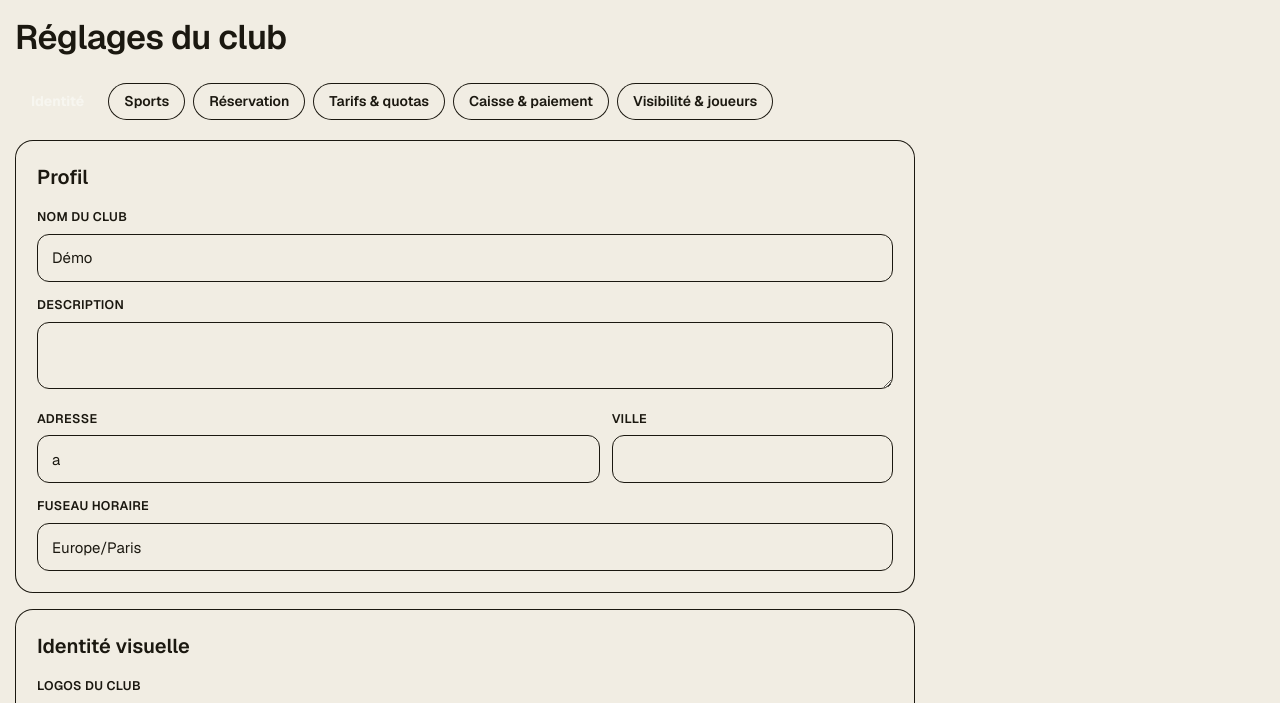
it: AdminSettingsPage (onglets + SaveBar) › switches tabs and reflects the active tab in the URL
The width and height of the screenshot is (1280, 703).
Expected: the heading "Profil" is shown, 37,164 -> 88,190
Click the button "Réservation" at [249, 102], box 193,83 -> 305,120
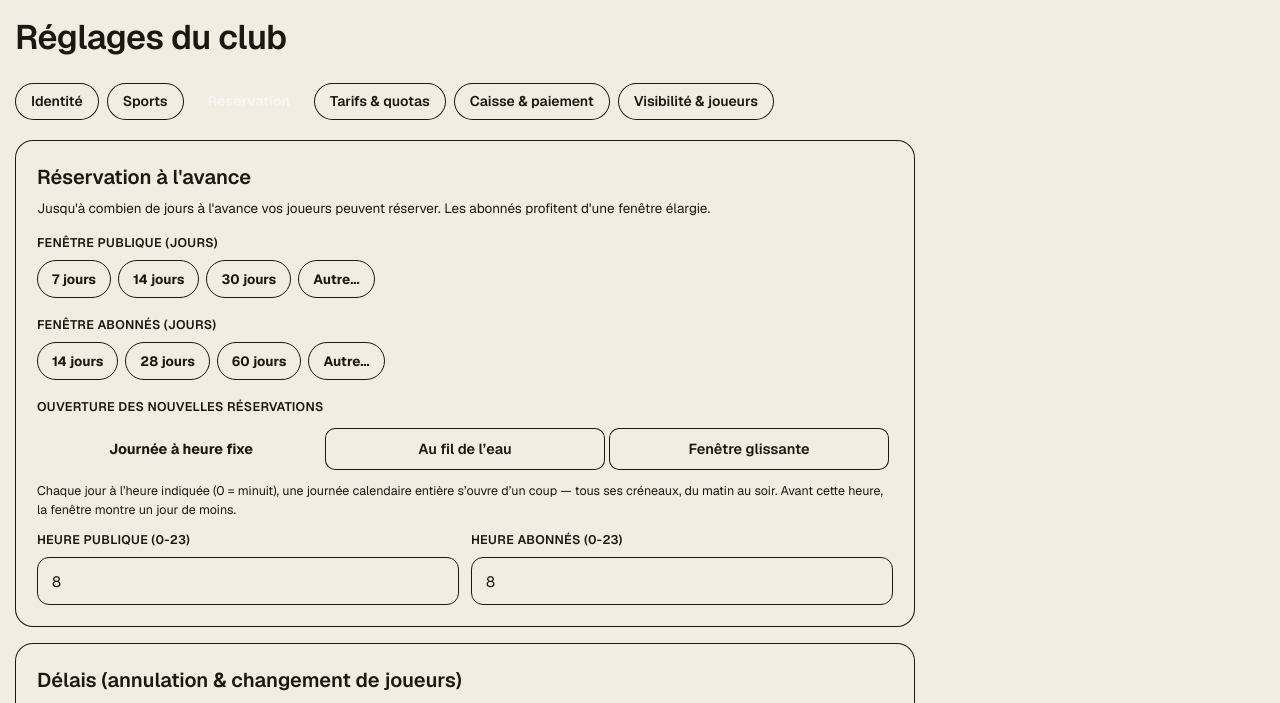
Expected: the heading "Réservation à l'avance" is shown, 37,164 -> 251,190
